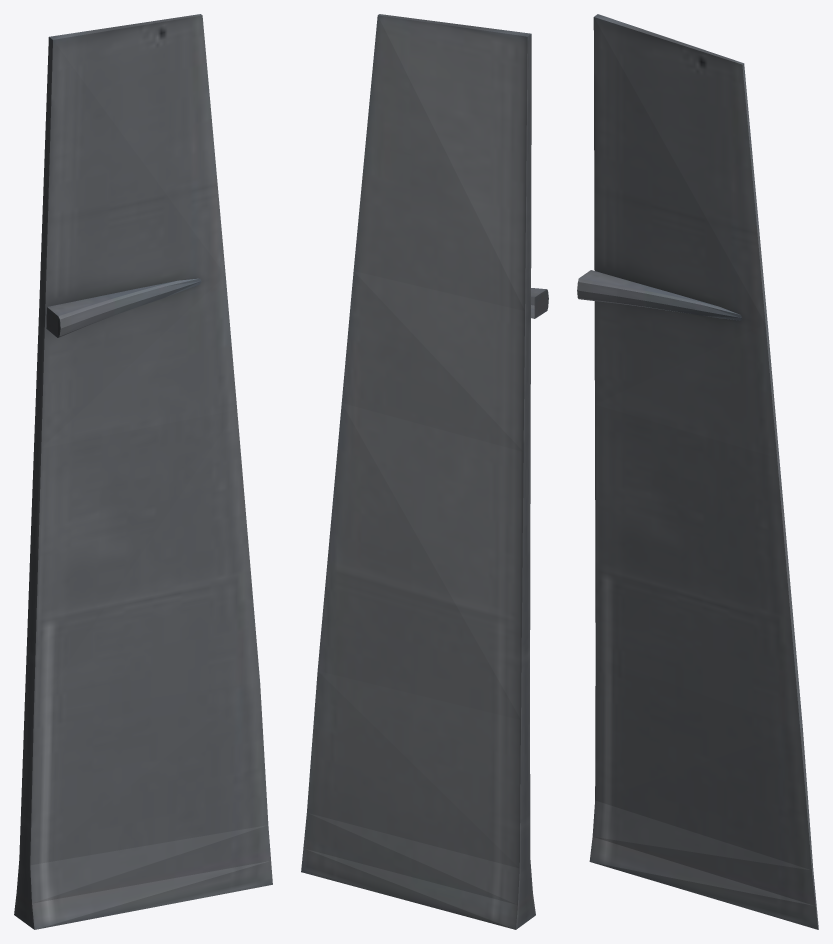
The model's file is volet1.fbx.
3 views of the same model, side by side, from view 1: azimuth 30°, elevation 25°; view 2: azimuth 150°, elevation 25°; view 3: azimuth 330°, elevation 25° (orthographic). The views are drawn at different scales.
Visible parts, largest first — view 1: ShapeIndexedFaceSet; view 2: ShapeIndexedFaceSet; view 3: ShapeIndexedFaceSet.
Boxes of the visible parts, x1,y1,x2,y2 form: ShapeIndexedFaceSet: (14,14,272,929); ShapeIndexedFaceSet: (301,14,548,929); ShapeIndexedFaceSet: (577,14,818,929).
Size of the model in its own units: 1.02 by 3.68 by 0.2958.
